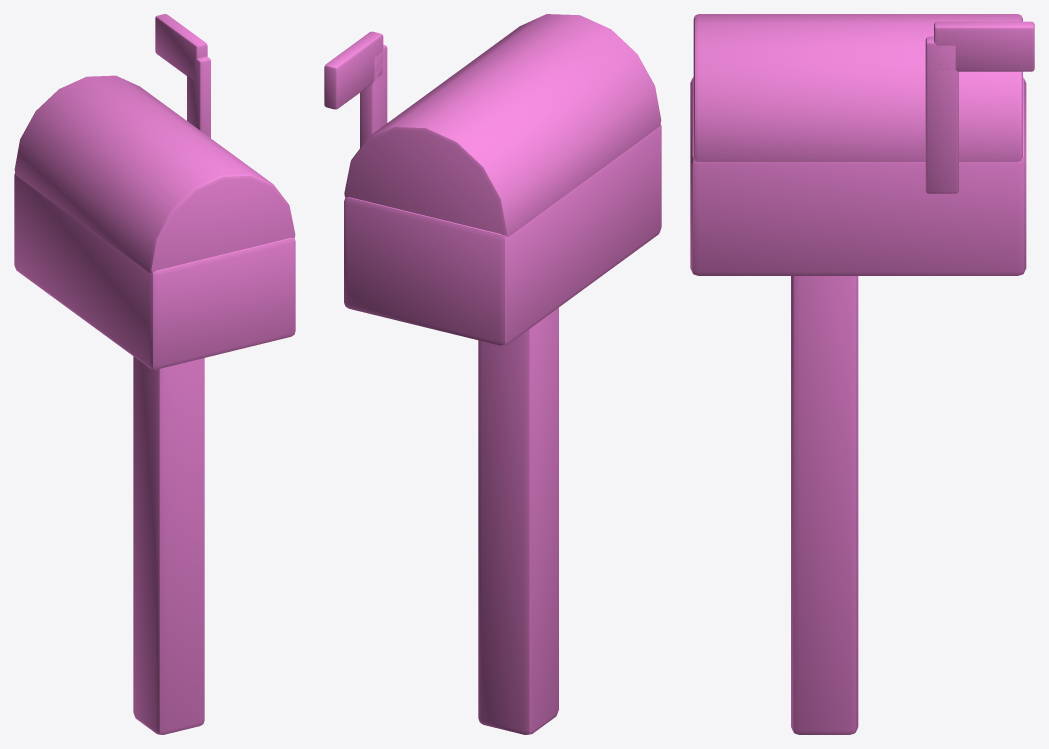
File: Street_Mailbox.fbx
3 renders of one model, left to right at view 1: azimuth 30°, elevation 25°; view 2: azimuth 150°, elevation 25°; view 3: azimuth 270°, elevation 25°, orthographic. The views are drawn at different scales.
Parts seen in each view (by area): view 1: Mailbox; view 2: Mailbox; view 3: Mailbox.
Part boxes in pixels (bbox=[...]): Mailbox: bbox=[14, 14, 295, 734]; Mailbox: bbox=[324, 14, 661, 734]; Mailbox: bbox=[690, 14, 1034, 734].
Bounding box in the file's own units: 1.3 × 4.9 × 2.05.
Materials: 1 (1 with a texture image).
